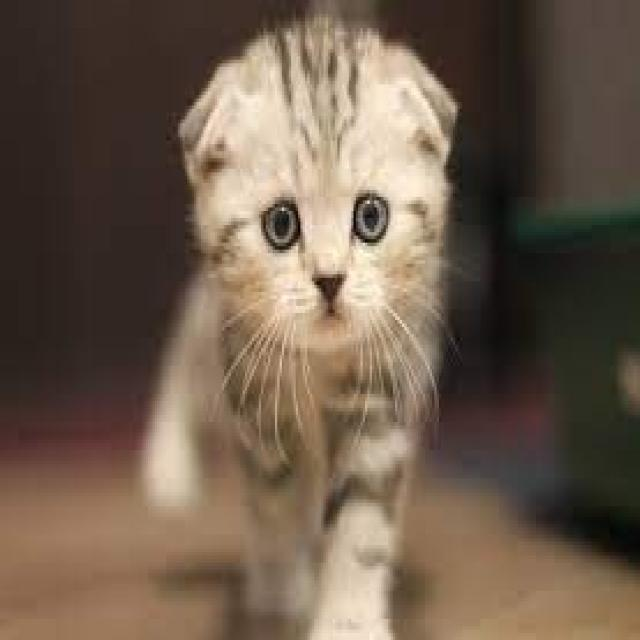cat-face: (179, 34, 457, 324)
